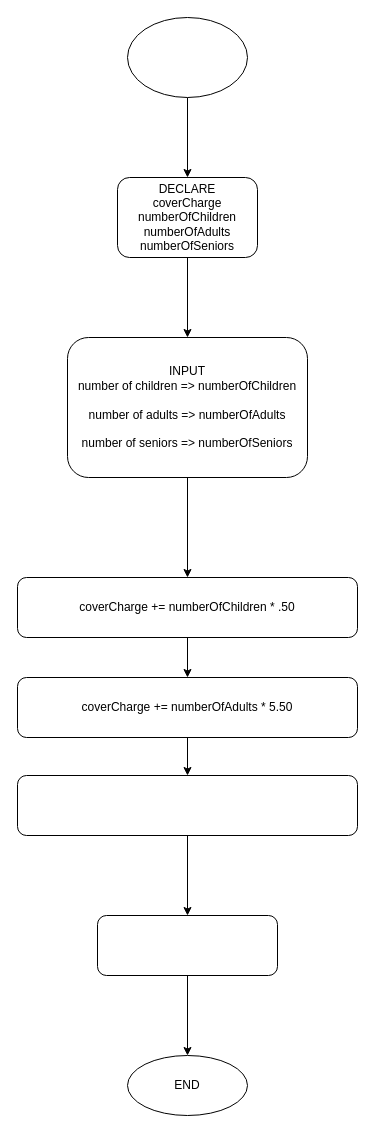
The diagram is 375 pixels wide and 1133 high, and some of its shapes have lost their labels. The centre of each missing label's shape, as x and y in pixels:
"coverCharge += numberOfSeniors * 1.25" goes at point (187, 805).
"RETURN coverCharge" goes at point (187, 945).
"Start" goes at point (187, 57).
